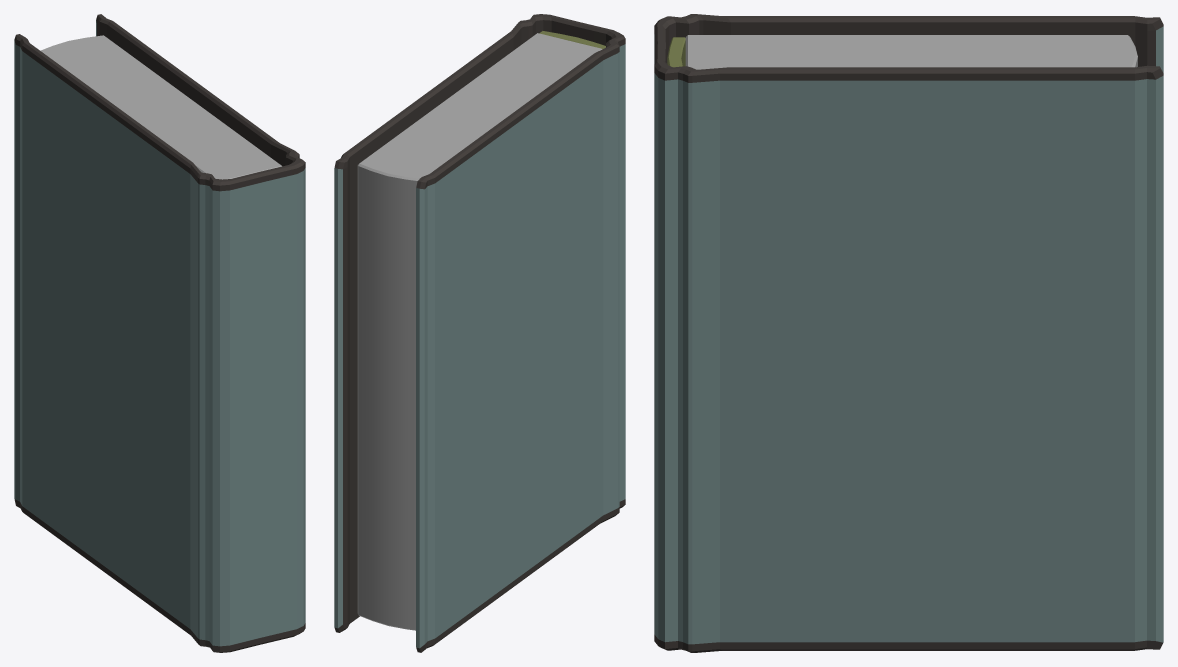
File: Book_E.fbx
3 renders of one model, left to right at view 1: azimuth 30°, elevation 25°; view 2: azimuth 150°, elevation 25°; view 3: azimuth 270°, elevation 25°, orthographic. The views are drawn at different scales.
Visible parts, largest first — view 1: BookG; view 2: BookG; view 3: BookG.
Part boxes in pixels (x1=…): BookG: x1=14, y1=14, x2=305, y2=652; BookG: x1=334, y1=14, x2=625, y2=652; BookG: x1=654, y1=14, x2=1163, y2=652.
Bounding box in the file's own units: 0.1293 × 0.5818 × 0.4618.
